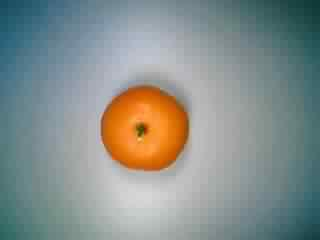orange: (98, 83, 195, 177)
